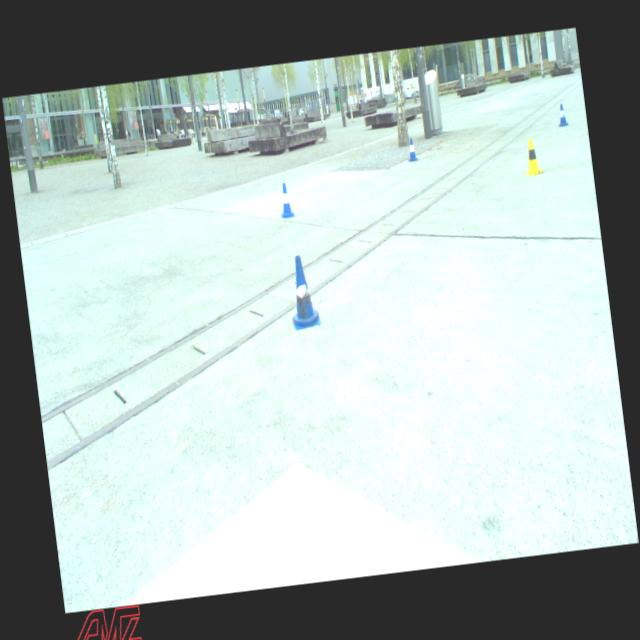blue_cone: (284, 253, 321, 330), (274, 181, 296, 220), (405, 136, 418, 162), (556, 102, 570, 126)
yellow_cone: (520, 136, 544, 176)
